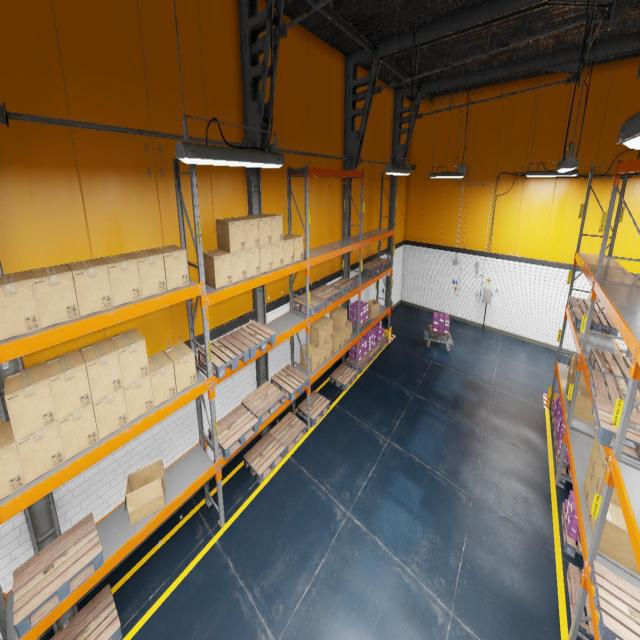box: (4, 362, 57, 442), (590, 502, 640, 575), (45, 349, 92, 421), (29, 264, 80, 328), (16, 422, 65, 484), (0, 270, 41, 341), (79, 338, 123, 402), (125, 458, 165, 526), (67, 258, 113, 316), (57, 404, 99, 461), (110, 328, 150, 387), (99, 253, 142, 306), (0, 420, 26, 500), (92, 388, 128, 440), (128, 249, 166, 298), (163, 342, 197, 394), (593, 446, 621, 507), (153, 245, 189, 290), (148, 351, 176, 407), (123, 374, 154, 422), (587, 476, 615, 525), (203, 249, 232, 288), (216, 218, 245, 253), (569, 386, 595, 424), (231, 217, 259, 250), (246, 214, 272, 246), (259, 213, 283, 243), (590, 430, 603, 475), (283, 233, 303, 262), (300, 343, 319, 373), (230, 250, 247, 283), (572, 354, 588, 389), (568, 376, 587, 405), (246, 246, 260, 278), (583, 460, 593, 504), (310, 320, 326, 347), (317, 316, 333, 342), (330, 306, 347, 330), (310, 343, 326, 366), (260, 244, 272, 273), (283, 236, 294, 265), (272, 241, 283, 270), (366, 299, 380, 319), (567, 353, 578, 378), (333, 327, 346, 347), (332, 328, 340, 352), (566, 369, 572, 395), (326, 338, 333, 360), (346, 320, 352, 342)
pallets: (13, 512, 104, 640), (49, 584, 122, 639), (590, 560, 640, 640), (592, 396, 640, 461), (208, 404, 258, 460), (198, 334, 250, 378), (589, 369, 640, 413), (243, 432, 285, 484), (567, 562, 594, 640), (588, 348, 640, 387), (241, 381, 284, 426), (229, 321, 276, 358), (269, 411, 306, 455), (572, 306, 618, 338), (270, 364, 308, 401), (561, 502, 582, 558), (297, 391, 330, 426), (293, 292, 327, 317), (330, 363, 357, 391), (568, 296, 608, 314), (555, 445, 572, 484), (309, 285, 342, 305), (330, 277, 356, 296), (346, 354, 370, 373), (359, 261, 383, 276), (428, 325, 450, 341), (347, 317, 370, 332), (369, 257, 392, 270), (365, 344, 380, 361), (551, 403, 559, 428), (376, 335, 388, 351), (553, 422, 558, 451)
